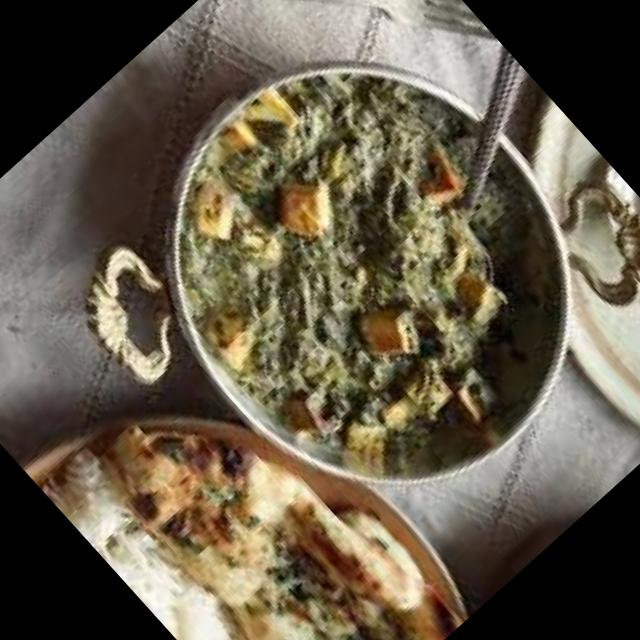palak_paneer: (104, 1, 624, 524)
